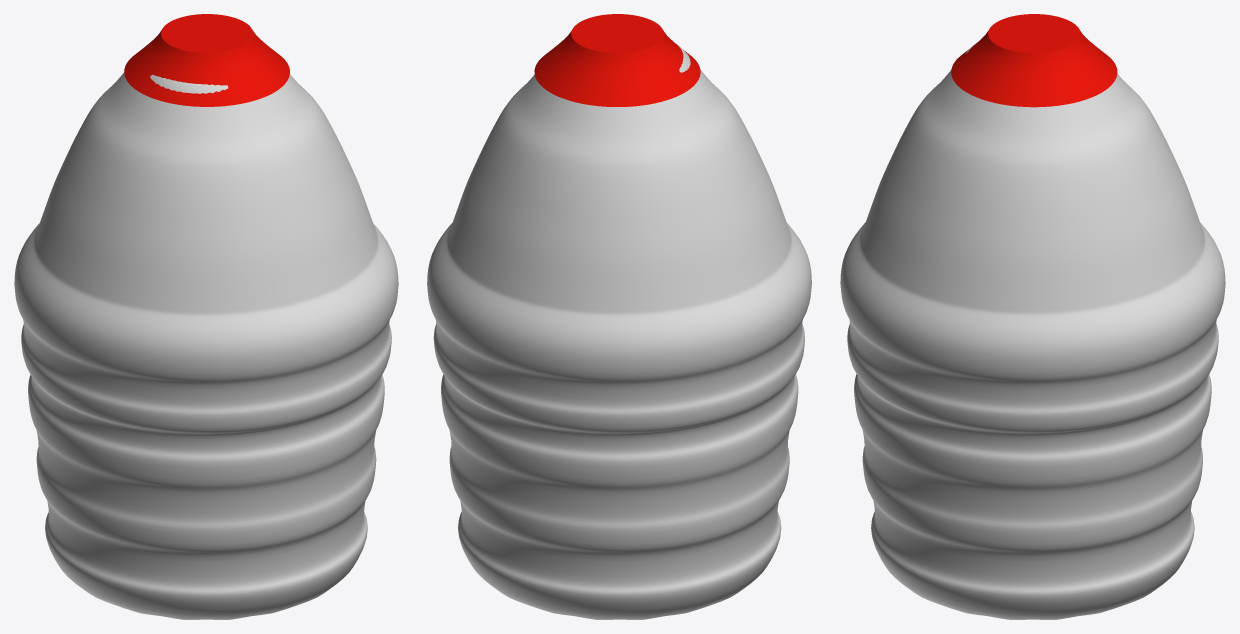
Rendered from bottleoil2.fbx.
3 renders of one model, left to right at view 1: azimuth 30°, elevation 25°; view 2: azimuth 150°, elevation 25°; view 3: azimuth 270°, elevation 25°, orthographic.
Parts seen in each view (by area): view 1: bottle, cover; view 2: bottle, cover; view 3: bottle, cover.
Boxes of the visible parts, x1,y1,x2,y2 form: bottle: [14, 72, 398, 619]; cover: [124, 14, 289, 106]; bottle: [427, 44, 811, 619]; cover: [534, 14, 700, 106]; bottle: [840, 44, 1225, 619]; cover: [951, 14, 1117, 107].
Size of the model in its own units: 2 by 3.12 by 2.
